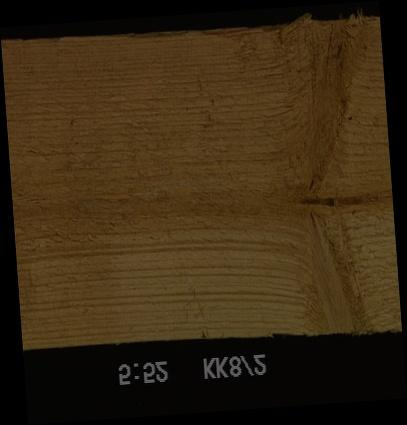wave: (125, 26, 280, 38)
